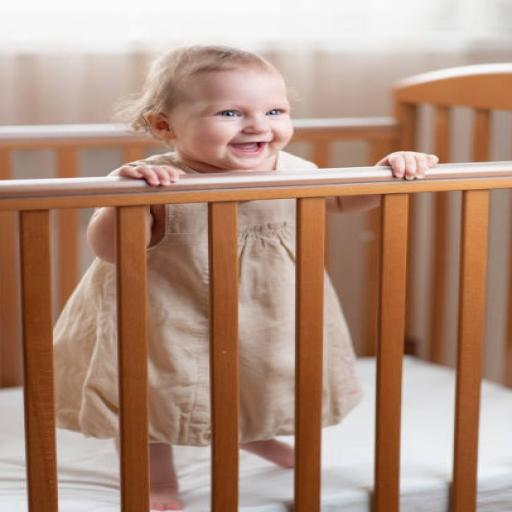baby: (140, 204, 210, 510)
crib: (0, 162, 511, 511)
